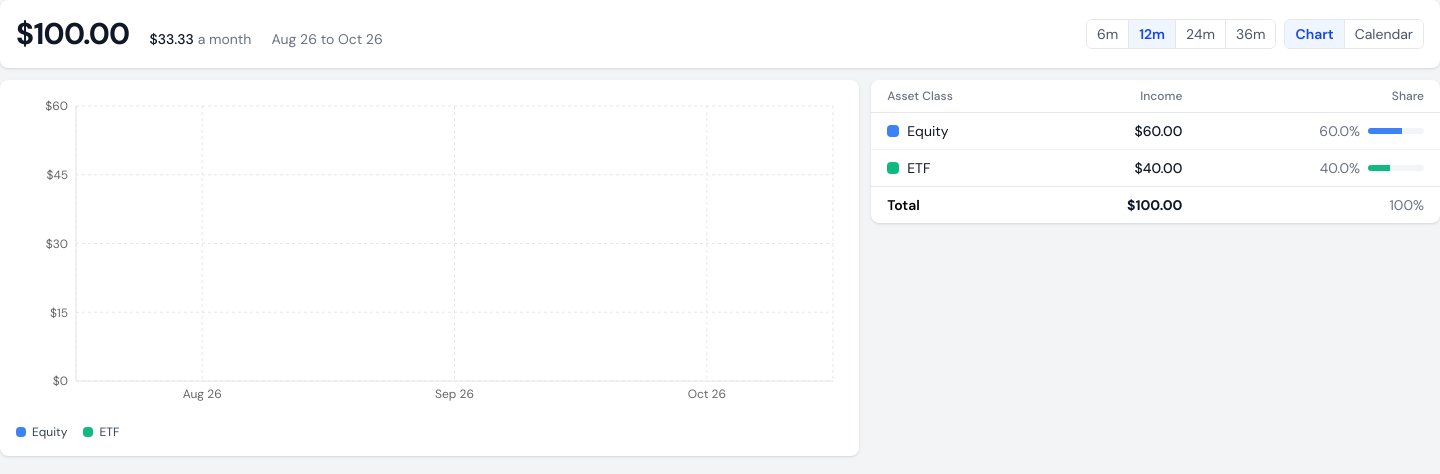
IncomeView › expands contributors inline in the chart layout, without a dialog
Click the button "ETF". click: (958, 168)
box: [887,158,1028,178]
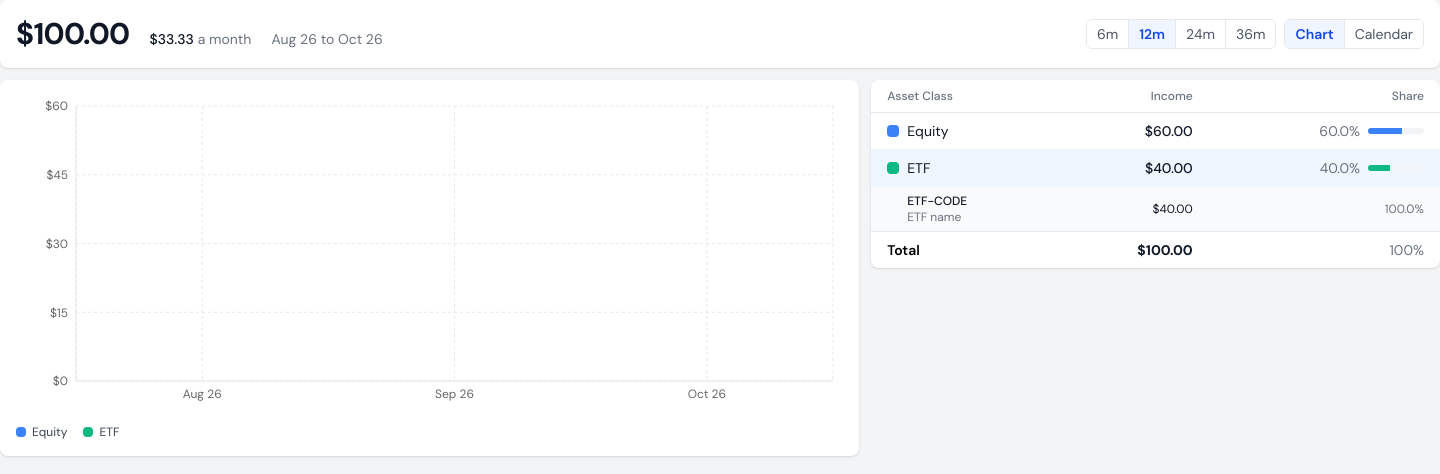
Check: the text "ETF-CODE" is shown, box [907,193,967,209]
Click the button "ETF". click: (966, 168)
box: [887,158,1045,178]
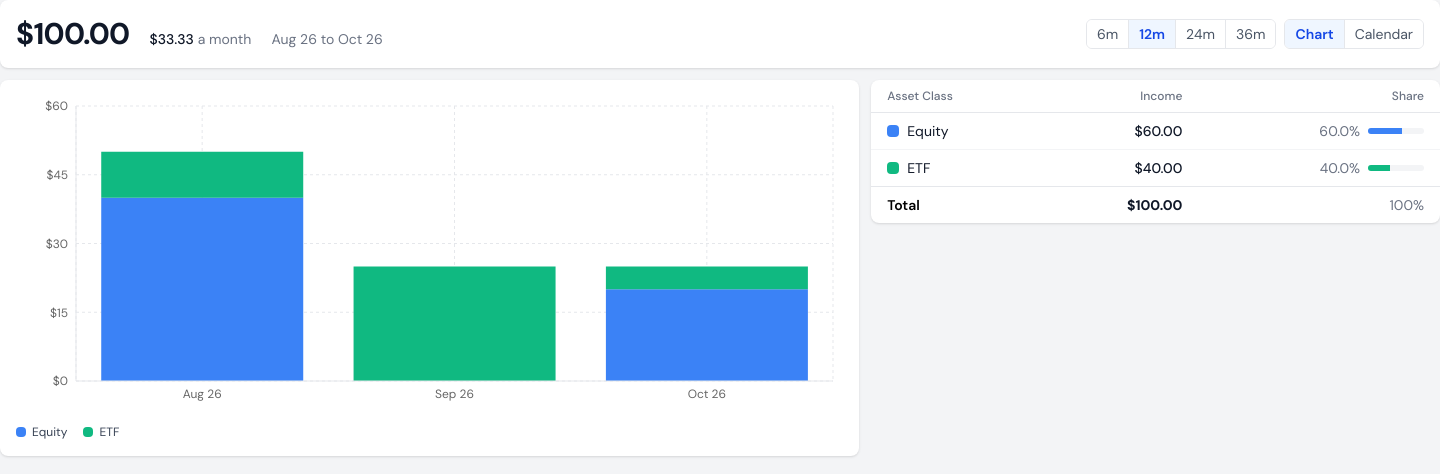
Check: the text "ETF-CODE" is gone
